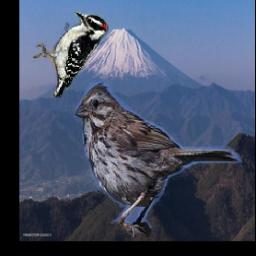Sparrow: (73, 78, 241, 237)
Woodpecker: (31, 11, 108, 97)
